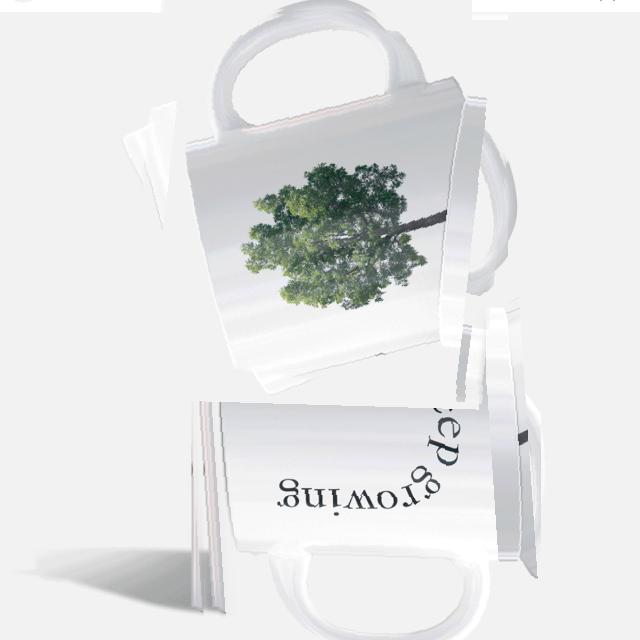recyclable: (129, 6, 508, 385), (181, 288, 541, 640)
